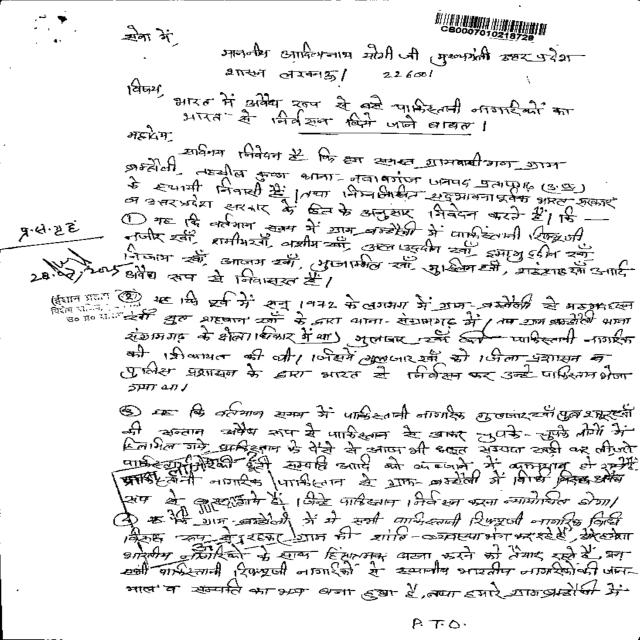antritgovtstamp: (106, 446, 299, 568)
barcode: (434, 8, 553, 46)
signnamestamp: (8, 248, 161, 330)
